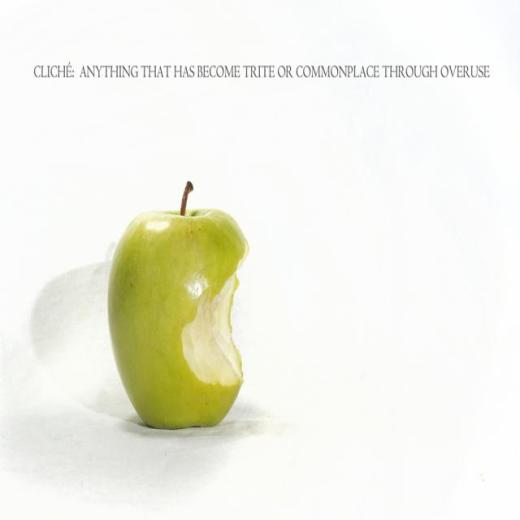Apple: (107, 180, 250, 430)
